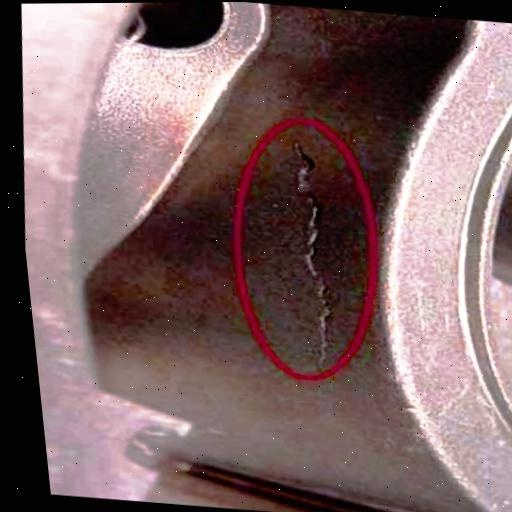crack: (251, 138, 367, 373)
